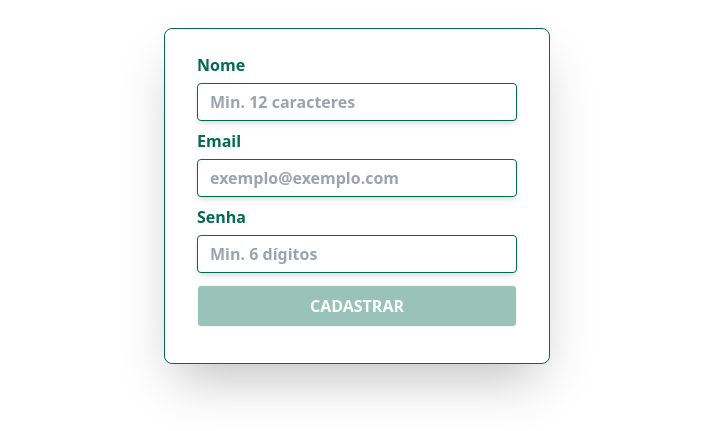
Scenario: Screen to register › Not possible to register with user already registered
In the field with test id "common_register__input-name": (357, 102) 197,83 -> 517,121, type "Tio da Silva"
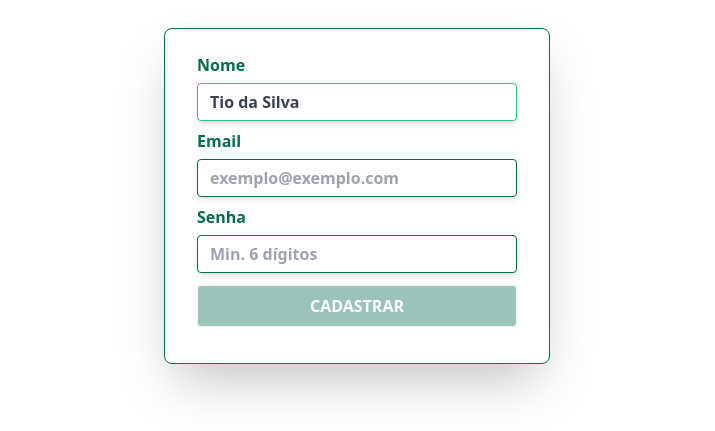
In the field with test id "common_register__input-email": (357, 178) 197,159 -> 517,197, type "simposio@email.com"
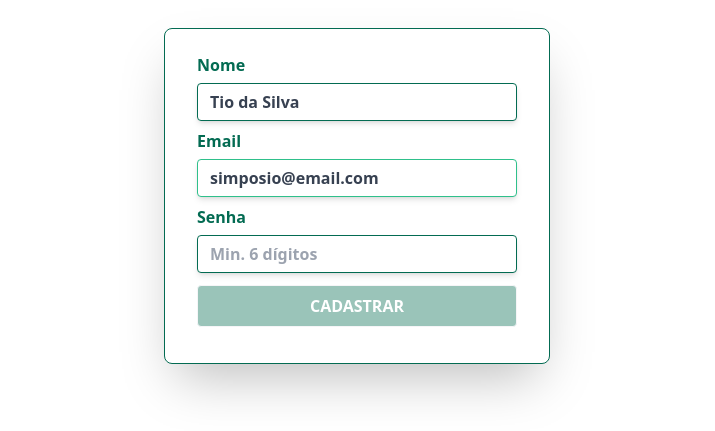
In the password field with test id "common_register__input-password": (357, 254) 197,235 -> 517,273, type "!senhaS3CR3T4#"
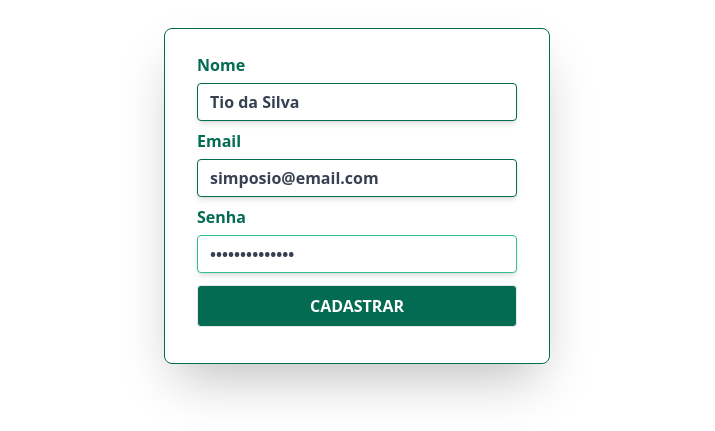
Click the button with test id "common_register__button-register": (357, 306) 197,285 -> 517,327
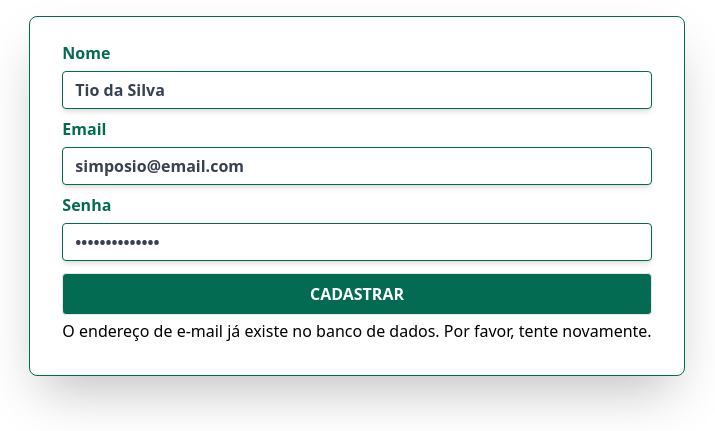
Now the text with test id "common_register__element-invalid_register" is shown, box 62,319 -> 652,343
